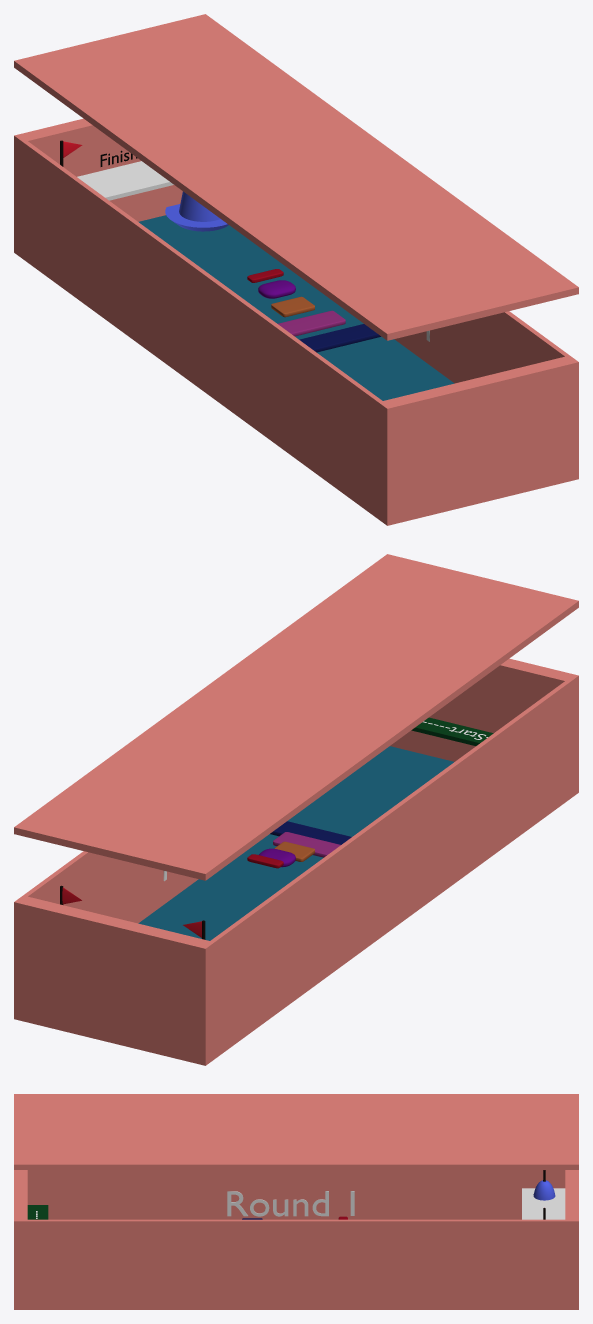
File: arcade_ceiling.fbx
3 renders of one model, top to bottom at view 1: azimuth 30°, elevation 25°; view 2: azimuth 150°, elevation 25°; view 3: azimuth 270°, elevation 25°, orthographic. The views are drawn at different scales.
Parts seen in each view (by area): view 1: walls, walls.001, floor.006, Cylinder, floor.001, floor.002; view 2: walls, walls.001, floor, floor.001, floor.002; view 3: walls, walls.001, Text.001, floor.006, Cylinder, floor.
Boxes of the visible parts, x1,y1,x2,y2 form: walls: [14, 118, 578, 525]; walls.001: [14, 14, 578, 340]; floor.006: [77, 161, 173, 200]; Cylinder: [60, 140, 228, 231]; floor.001: [299, 324, 380, 352]; floor.002: [277, 310, 345, 336]; walls: [14, 658, 578, 1065]; walls.001: [14, 554, 578, 880]; floor: [411, 717, 493, 745]; floor.001: [270, 821, 351, 844]; floor.002: [273, 832, 340, 857]; walls: [14, 1170, 578, 1309]; walls.001: [14, 1094, 578, 1169]; Text.001: [227, 1191, 354, 1216]; floor.006: [522, 1188, 565, 1219]; Cylinder: [533, 1170, 555, 1219]; floor: [27, 1205, 48, 1219].
Size of the model in its own units: 817 by 781 by 2756.
